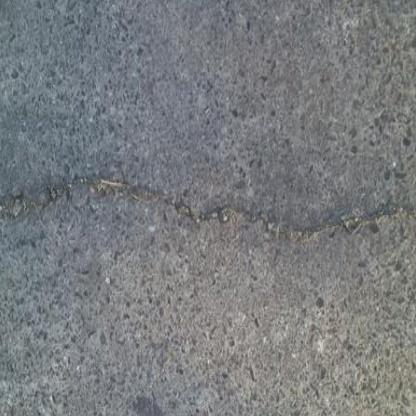Cracks: (0, 172, 416, 237)
